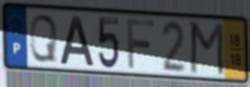2: (160, 19, 188, 74)
5: (96, 15, 121, 70)
A: (58, 14, 96, 68)
F: (125, 17, 157, 71)
M: (188, 20, 226, 78)
Q: (28, 13, 59, 65)
